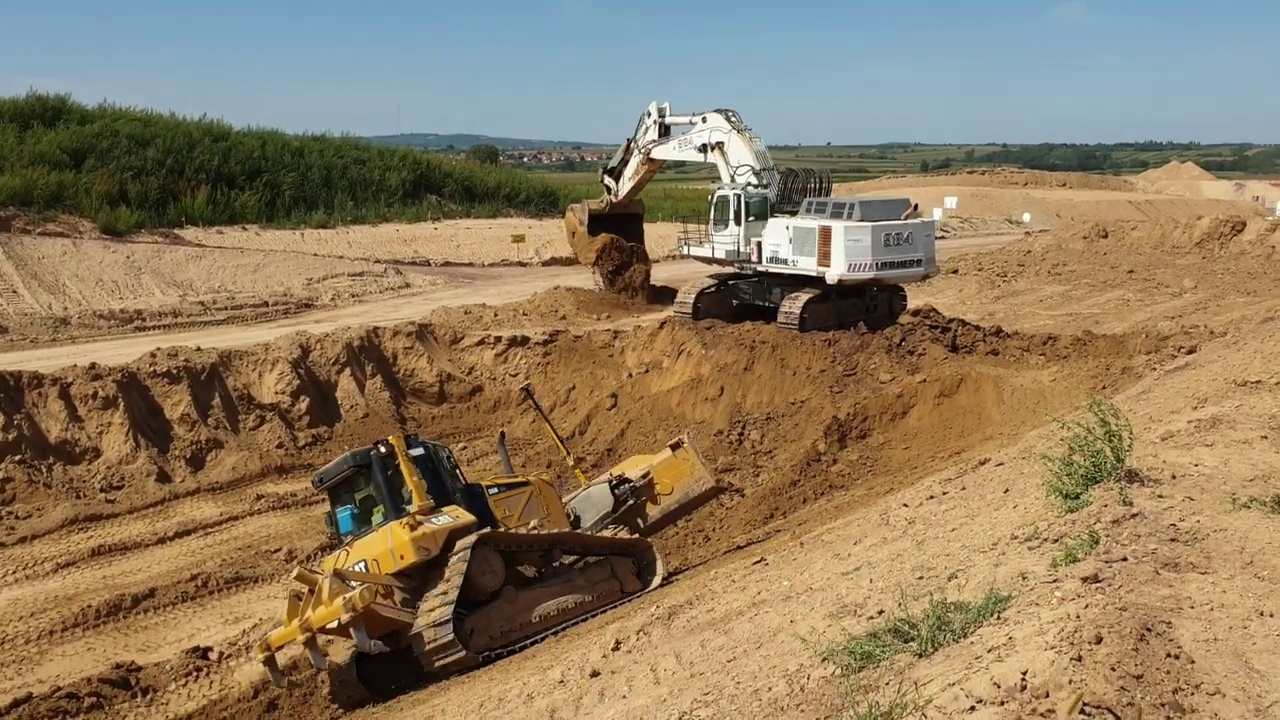bulldozer: (259, 376, 725, 712)
excavator: (561, 96, 946, 337)
